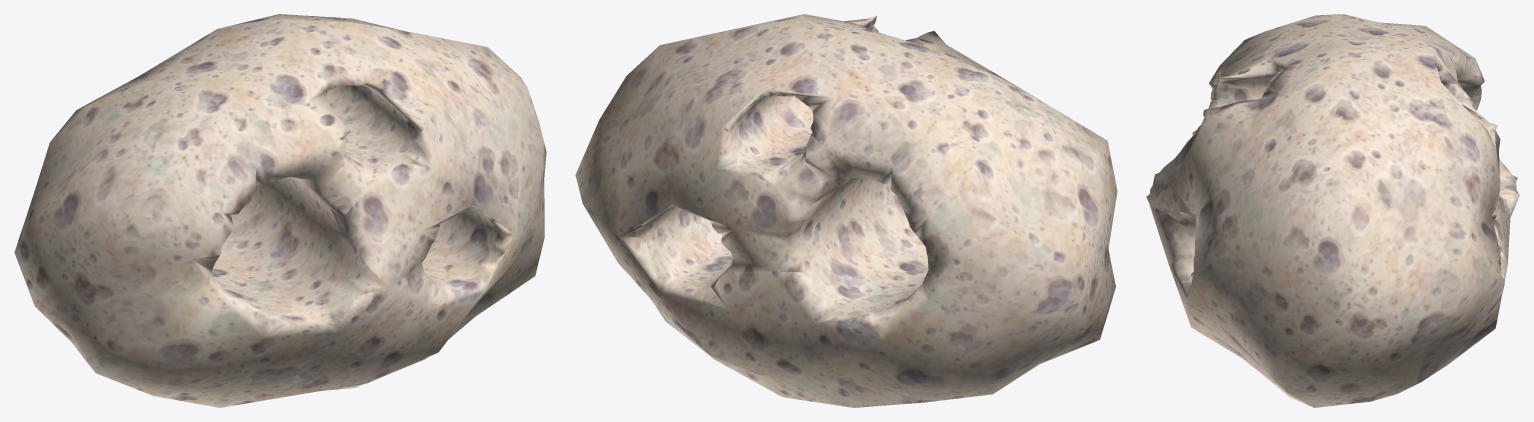
File: pumice.glb
The picture shows the model from 3 angles, left to right: view 1: azimuth 30°, elevation 25°; view 2: azimuth 150°, elevation 25°; view 3: azimuth 270°, elevation 25°; orthographic projection. The views are drawn at different scales.
Visible parts, largest first — view 1: Pumice01_Painted_360; view 2: Pumice01_Painted_360; view 3: Pumice01_Painted_360.
Boxes of the visible parts, <box> form: Pumice01_Painted_360: <box>14,14,546,407</box>; Pumice01_Painted_360: <box>575,14,1117,407</box>; Pumice01_Painted_360: <box>1146,14,1519,407</box>.
Bounding box in the file's own units: 0.14 × 0.0938 × 0.0958.
1 material, 1 textured.
